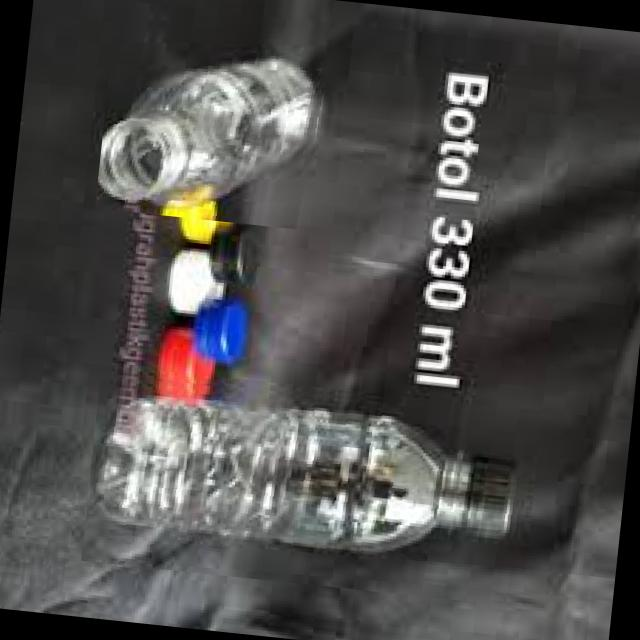plastic bottle: (80, 363, 534, 606), (93, 0, 335, 231)
